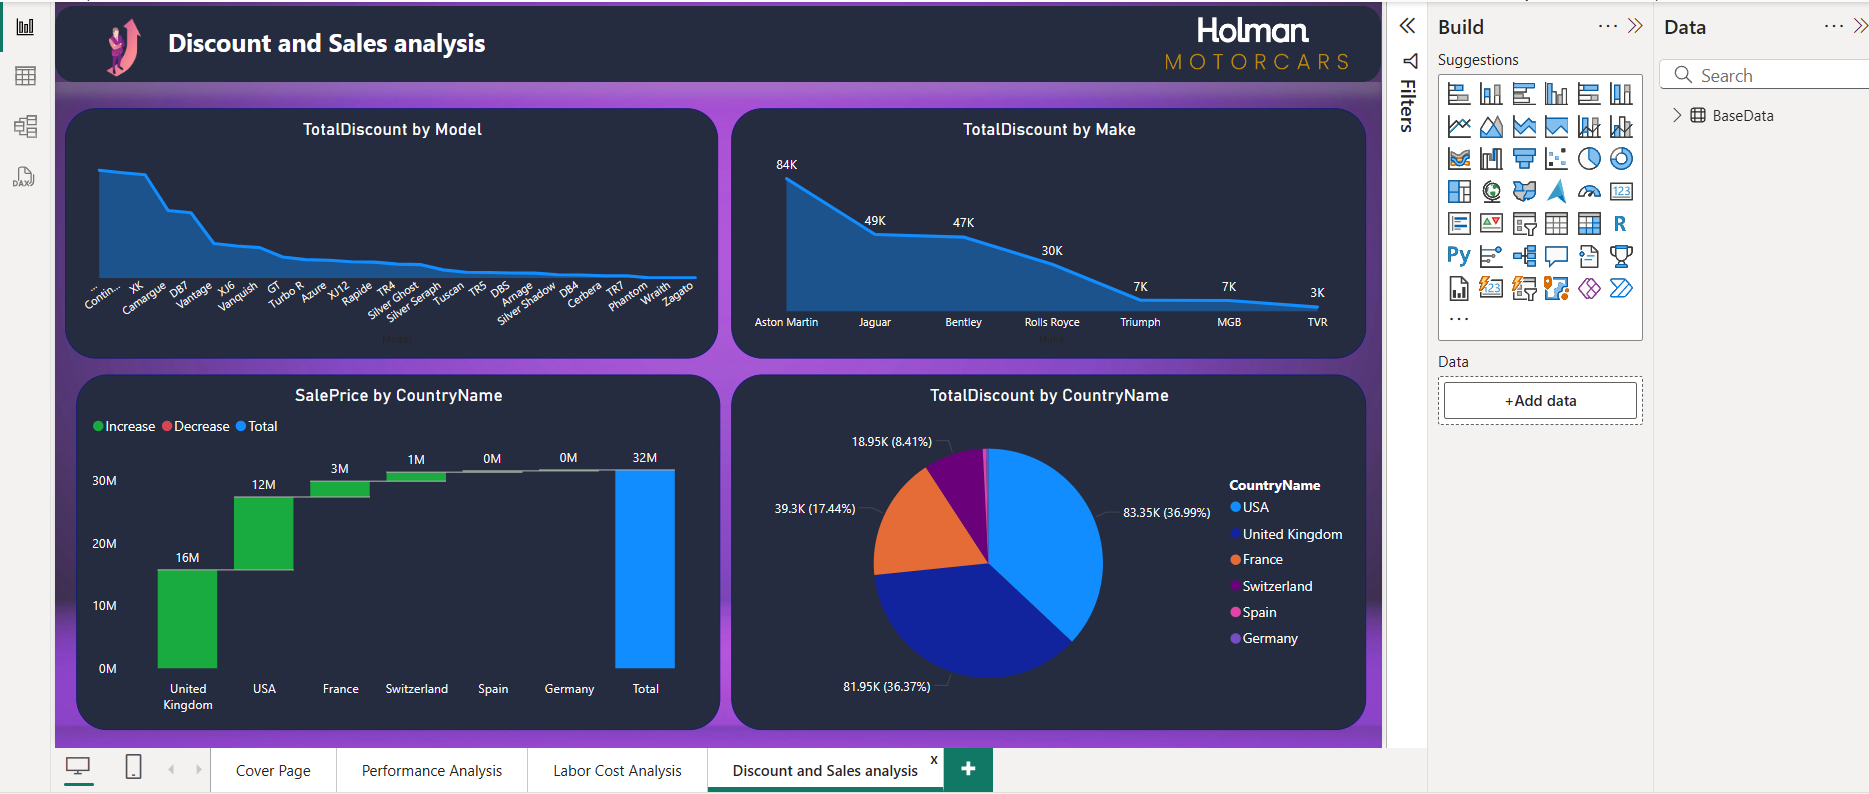

What the dashboard file says about the page in this screenshot:
{"tool":"powerbi","page":{"name":"Discount and Sales analysis","canvas":[1280,720],"ordinal":3},"visuals":[{"type":"waterfallChart","fields":{"Y":["Sum(BaseData.SalePrice)"],"Category":["BaseData.CountryName"]},"box":[20,360,621.4,342.9],"z":0},{"type":"pieChart","fields":{"Y":["Sum(BaseData.TotalDiscount)"],"Category":["BaseData.CountryName"]},"box":[652.9,360,612.9,342.9],"z":1000},{"type":"areaChart","fields":{"Category":["BaseData.Make"],"Y":["Sum(BaseData.TotalDiscount)"]},"box":[652.9,102.9,612.9,241.4],"z":2000},{"type":"areaChart","fields":{"Y":["Sum(BaseData.TotalDiscount)"],"Category":["BaseData.Model"]},"box":[10,102.9,630,241.4],"z":3000},{"type":"shape","box":[0,3.8,1280,73.8],"z":4000},{"type":"textbox","box":[103.3,18.3,365,58.3],"z":5000},{"type":"image","box":[1064.3,10,191.4,60],"z":6000},{"type":"image","box":[10,0,112.9,84.3],"z":7000}]}

Visuals, with their boxes on the page's 1280x720 design canvas (x1, y1, x2, y2). These are canvas units, not pixel positions in the 1869x794 screenshot, which may show the page scaled, cropped or inside an application window:
waterfallChart - Sum(BaseData.SalePrice) x BaseData.CountryName: (left=20, top=360, right=641, bottom=703)
pieChart - Sum(BaseData.TotalDiscount) x BaseData.CountryName: (left=653, top=360, right=1266, bottom=703)
areaChart - BaseData.Make x Sum(BaseData.TotalDiscount): (left=653, top=103, right=1266, bottom=344)
areaChart - Sum(BaseData.TotalDiscount) x BaseData.Model: (left=10, top=103, right=640, bottom=344)
shape: (left=0, top=4, right=1280, bottom=78)
textbox: (left=103, top=18, right=468, bottom=77)
image: (left=1064, top=10, right=1256, bottom=70)
image: (left=10, top=0, right=123, bottom=84)
